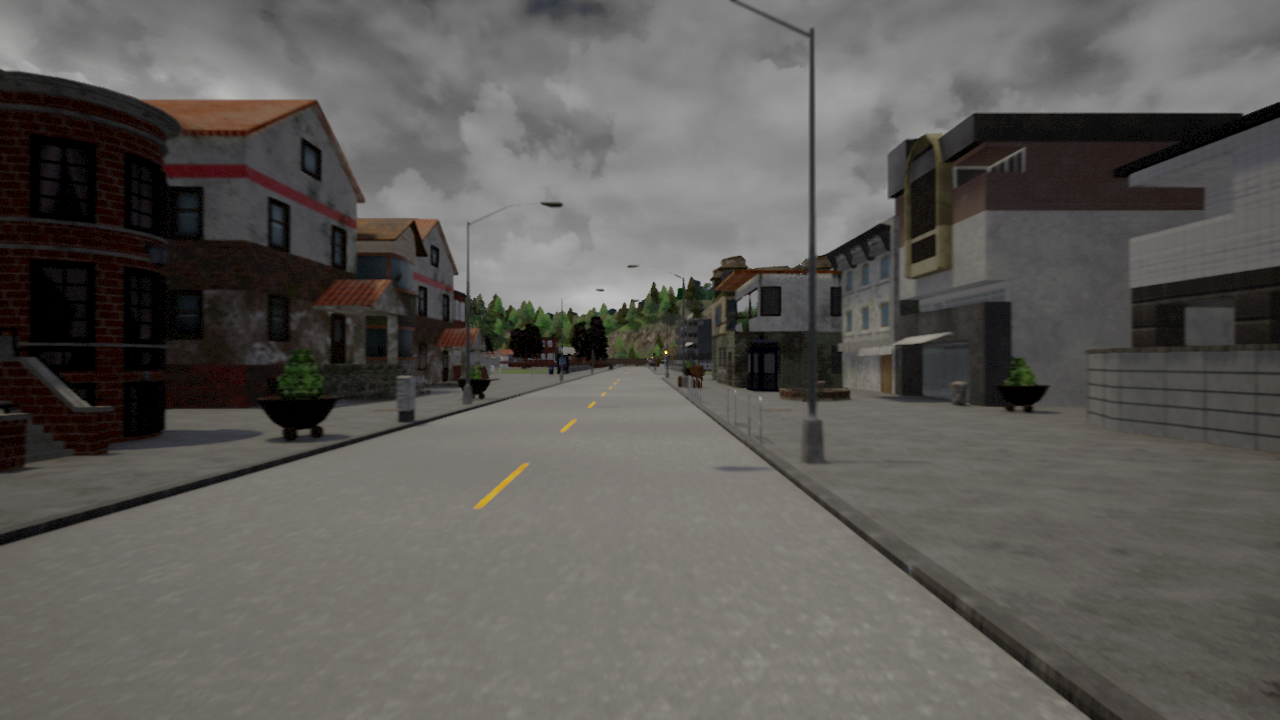yellow: (663, 347, 668, 357)
